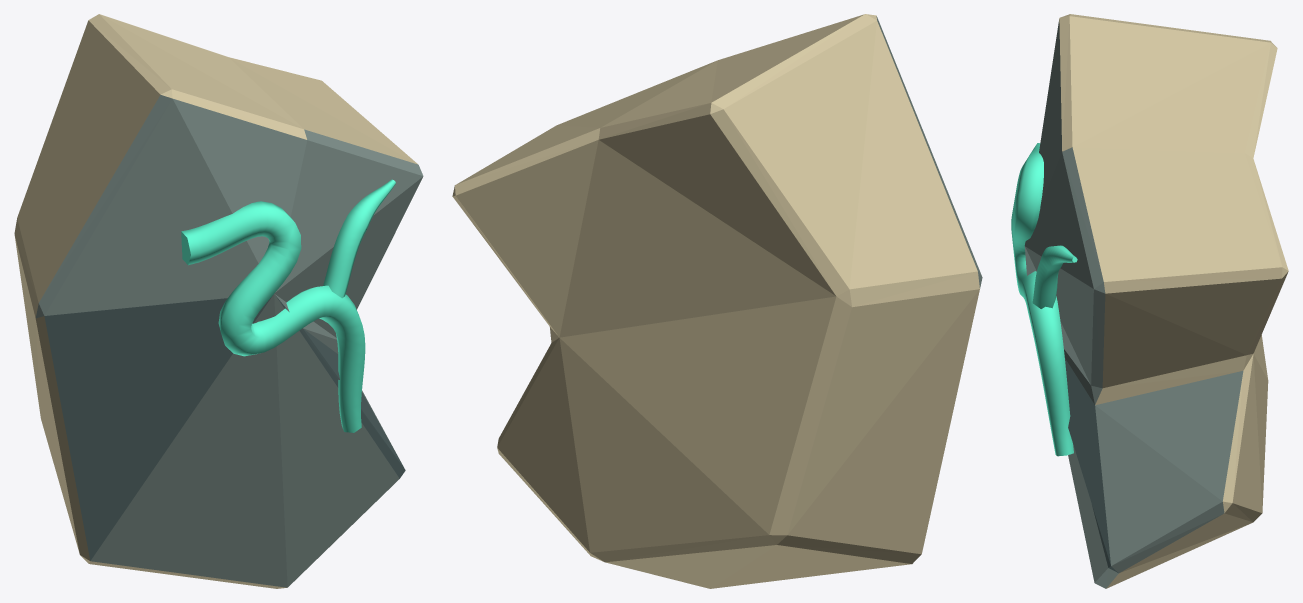
The model's file is golem_shard.obj.
3 views of the same model, side by side, from view 1: azimuth 30°, elevation 25°; view 2: azimuth 150°, elevation 25°; view 3: azimuth 270°, elevation 25° (orthographic). The views are drawn at different scales.
Parts seen in each view (by area): view 1: A_BrokenStoneMass.001_golem_shard_basalt, A_BrokenStoneMass.001_golem_shard_fracture_faces, A_BrokenStoneMass.001_golem_shard_old_face, B_BrokenConduit.001_golem_shard_inlay, B_FracturedBranch.001_golem_shard_inlay; view 2: A_BrokenStoneMass.001_golem_shard_fracture_faces, A_BrokenStoneMass.001_golem_shard_basalt; view 3: A_BrokenStoneMass.001_golem_shard_fracture_faces, A_BrokenStoneMass.001_golem_shard_basalt, B_BrokenConduit.001_golem_shard_inlay, A_BrokenStoneMass.001_golem_shard_old_face, B_FracturedBranch.001_golem_shard_inlay.
Boxes of the visible parts, x1,y1,x2,y2 form: A_BrokenStoneMass.001_golem_shard_basalt: (35, 95, 423, 587); A_BrokenStoneMass.001_golem_shard_fracture_faces: (14, 14, 417, 588); A_BrokenStoneMass.001_golem_shard_old_face: (44, 295, 405, 560); B_BrokenConduit.001_golem_shard_inlay: (181, 201, 365, 432); B_FracturedBranch.001_golem_shard_inlay: (323, 179, 395, 298); A_BrokenStoneMass.001_golem_shard_fracture_faces: (452, 14, 979, 588); A_BrokenStoneMass.001_golem_shard_basalt: (876, 16, 982, 287); A_BrokenStoneMass.001_golem_shard_fracture_faces: (1059, 14, 1288, 588); A_BrokenStoneMass.001_golem_shard_basalt: (1024, 19, 1243, 588); B_BrokenConduit.001_golem_shard_inlay: (1011, 143, 1073, 456); A_BrokenStoneMass.001_golem_shard_old_face: (1065, 358, 1117, 572); B_FracturedBranch.001_golem_shard_inlay: (1032, 245, 1077, 308).
Bounding box in the file's own units: 1.4 × 1.87 × 0.9209.
